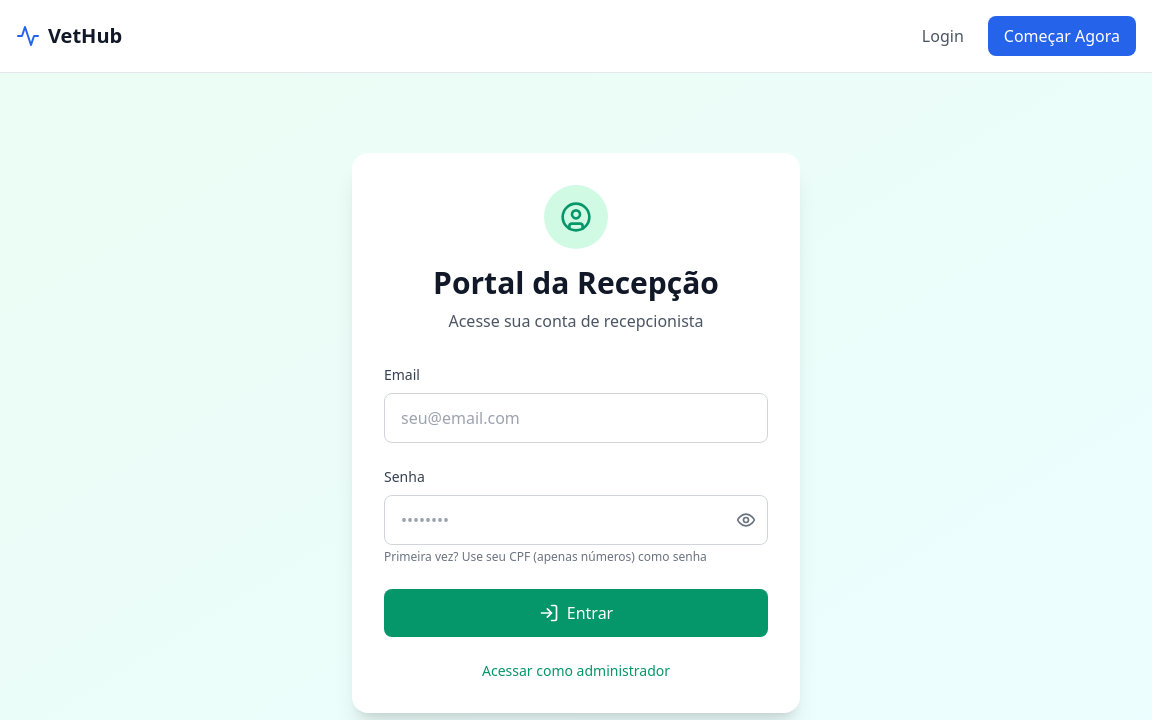
Test: ReceptionistLogin Page › deve bloquear acesso se não encontrar registro na tabela receptionists
In the field with placeholder "seu@email.com": (576, 418) 384,393 -> 768,443, type "rec@test.com"
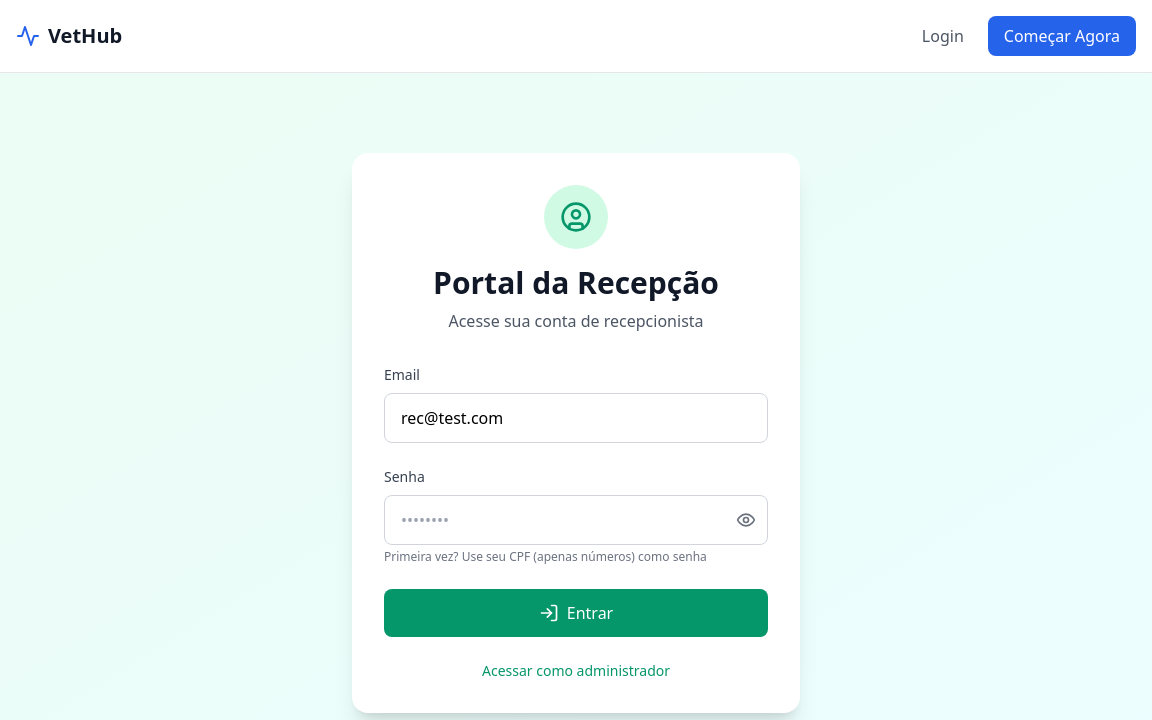
In the password field with placeholder "••••••••": (576, 520) 384,495 -> 768,545, type "123456"
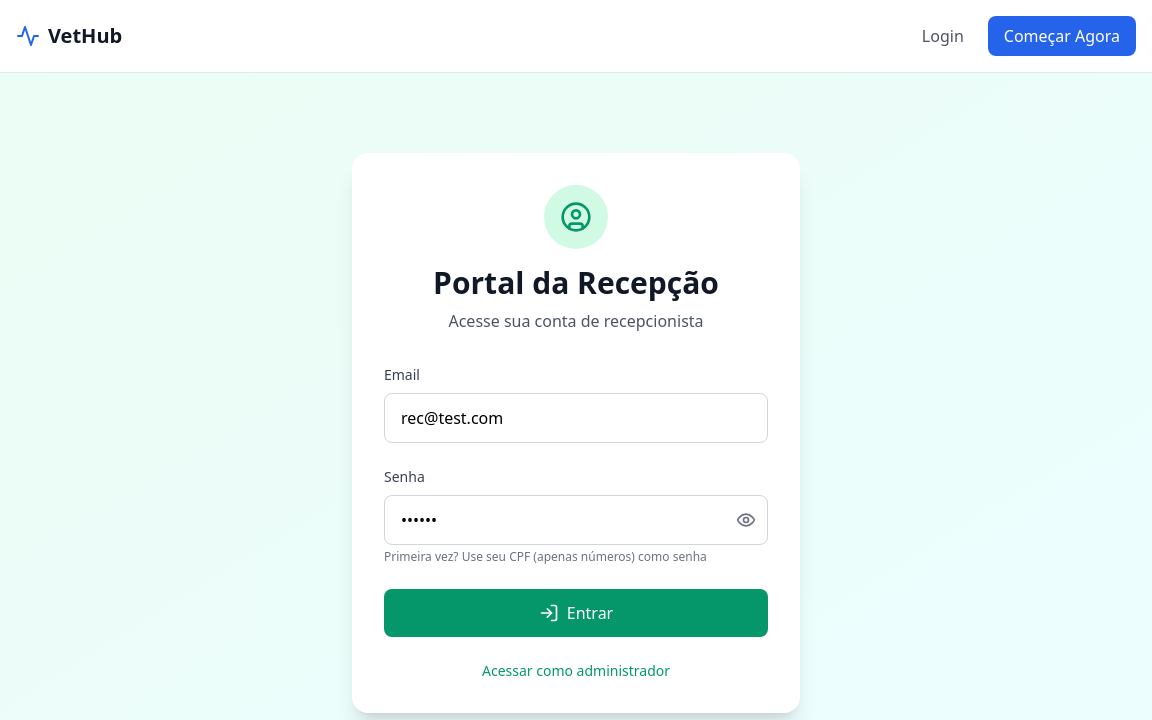
Click the button "Entrar": (576, 613) 384,589 -> 768,637
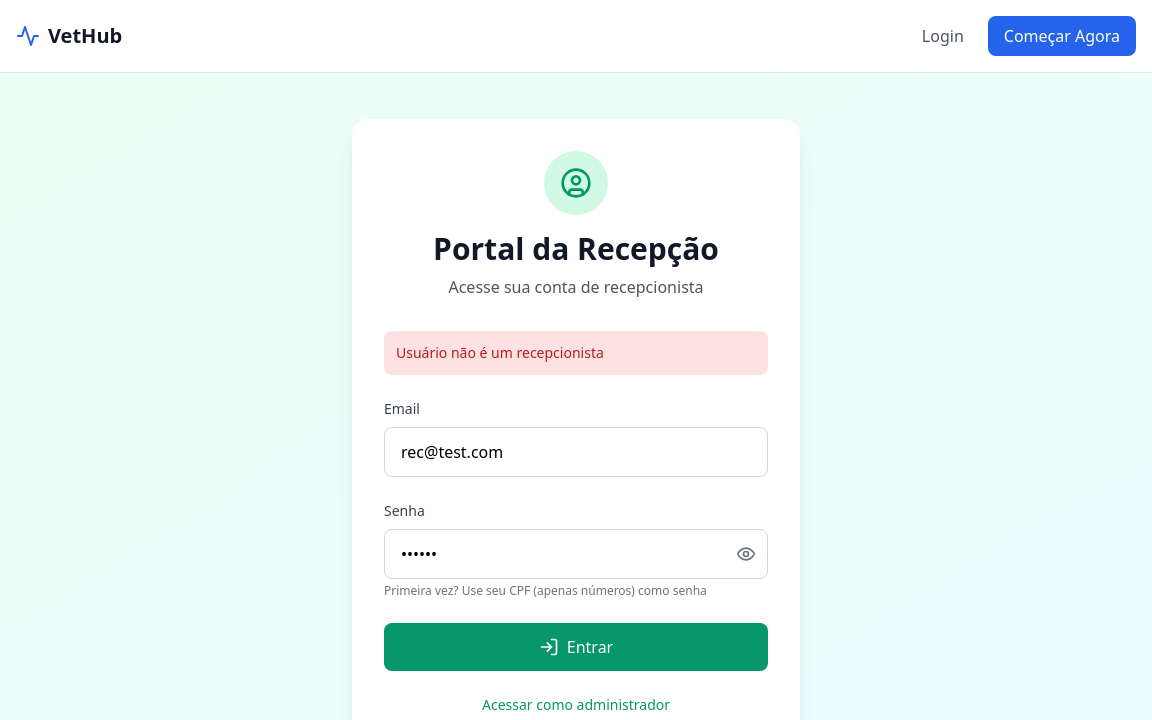
Expected: the text "Usuário não é um recepcionista" is shown, 384,331 -> 768,375
